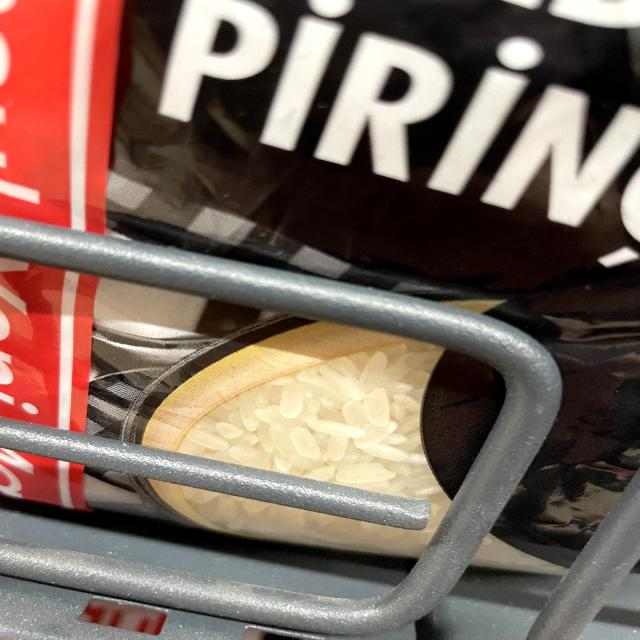rice: (229, 379, 419, 484)
